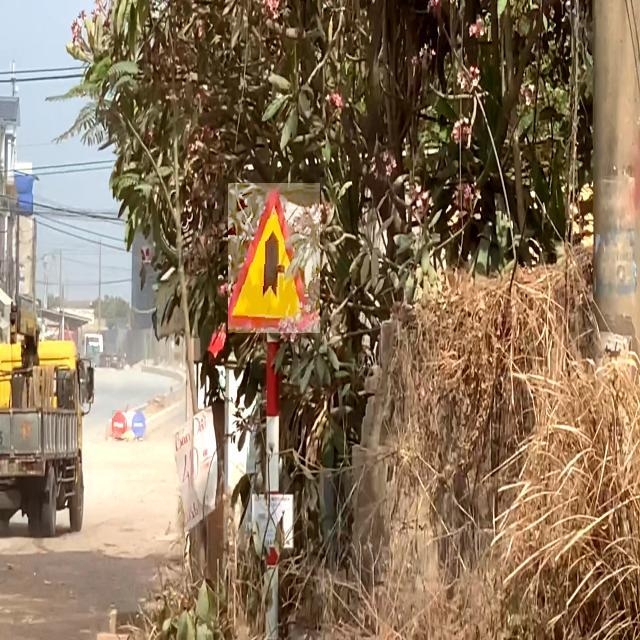P-102: (112, 410, 127, 439)
W-207b: (228, 184, 320, 334)
